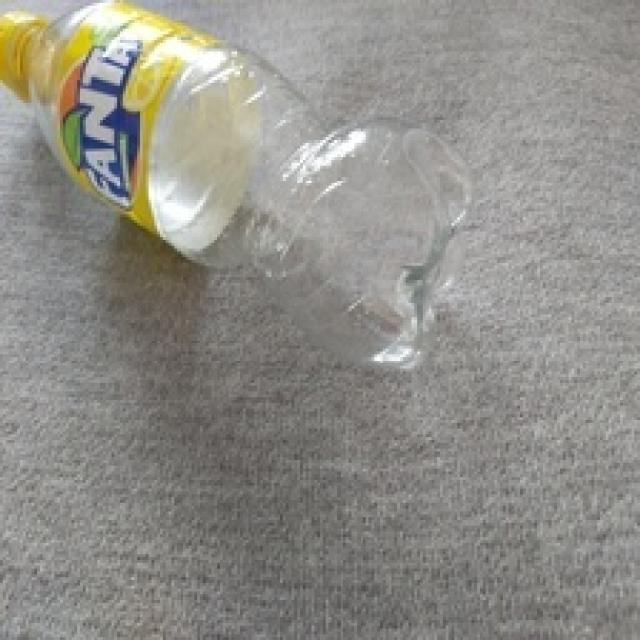Plastic: (0, 0, 473, 379)
